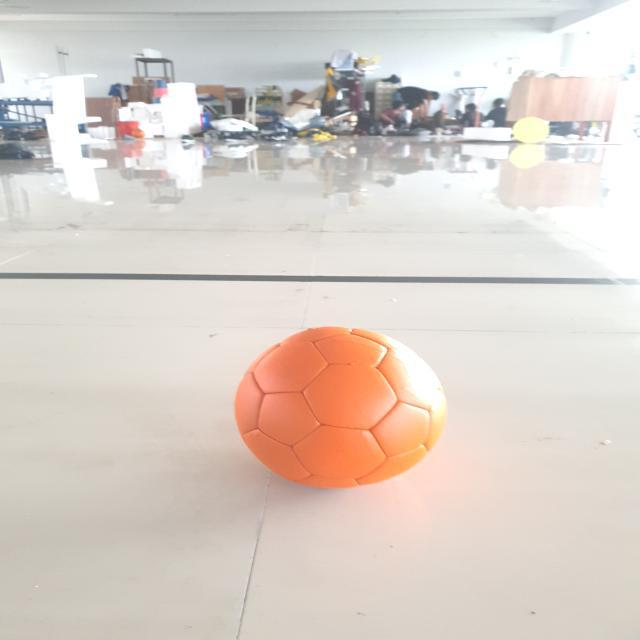bola: (199, 304, 476, 493)
